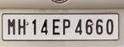0: (104, 18, 113, 34)
1: (30, 17, 37, 35)
4: (39, 17, 49, 34), (73, 17, 83, 34)
6: (84, 17, 93, 34), (95, 17, 103, 34)
E: (51, 17, 60, 34)
H: (16, 17, 25, 34)
M: (6, 17, 15, 34)
P: (61, 17, 70, 34)
